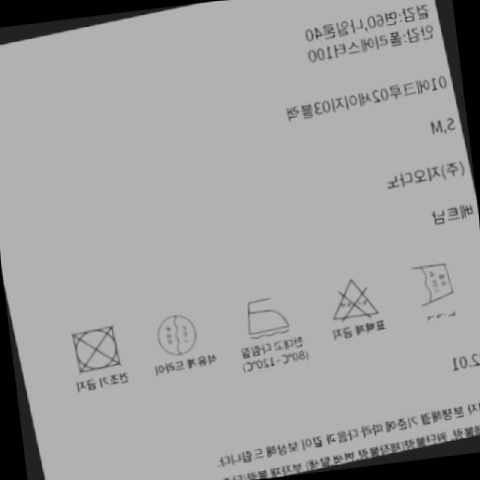30C: (403, 254, 459, 311)
DN_tumble_dry: (64, 321, 129, 377)
dry_clean_petrol_only: (144, 304, 203, 362)
iron: (236, 285, 296, 342)
non_chlorine_bleach: (318, 267, 384, 327)
